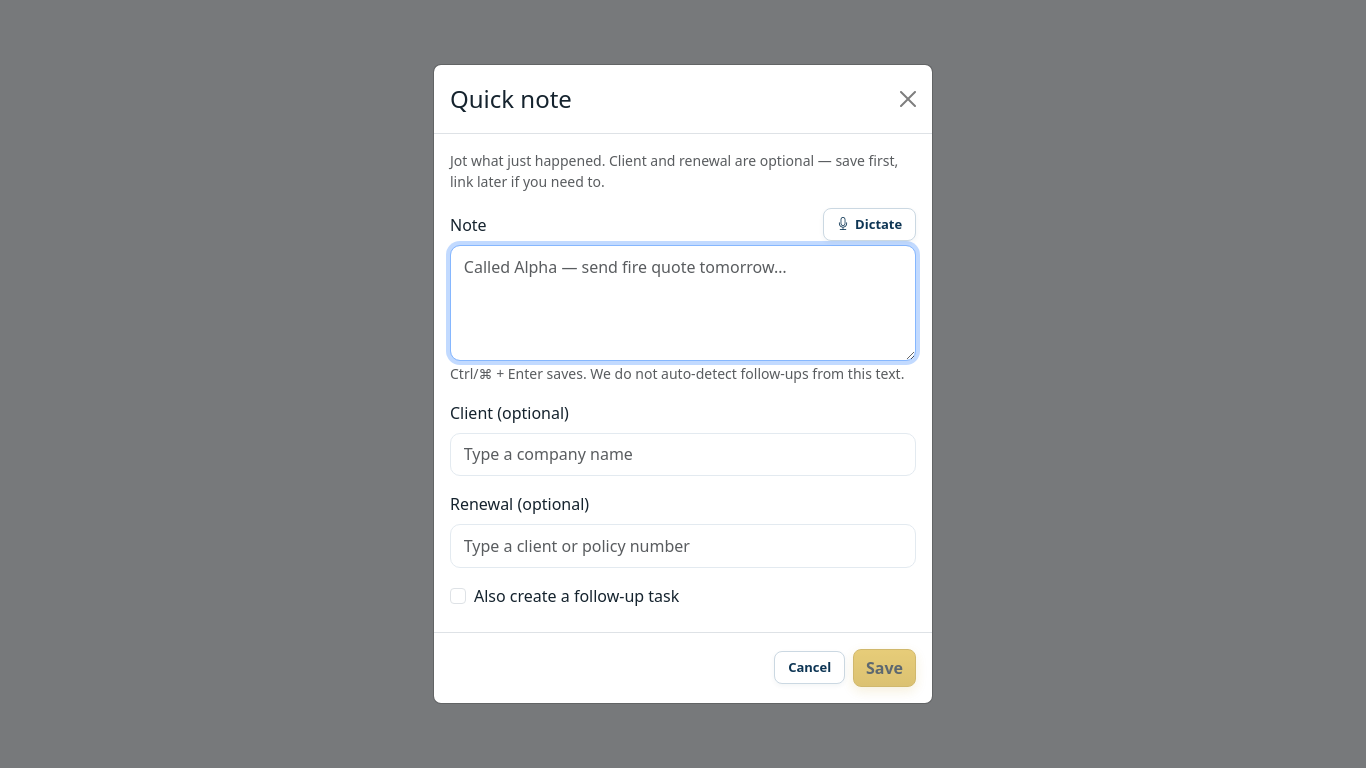
it: QuickNoteModal › shows an optional due date only when the follow-up task is ticked
Click the checkbox labelled "Also create a follow-up task": coordinates (458, 596) [450,588,466,604]
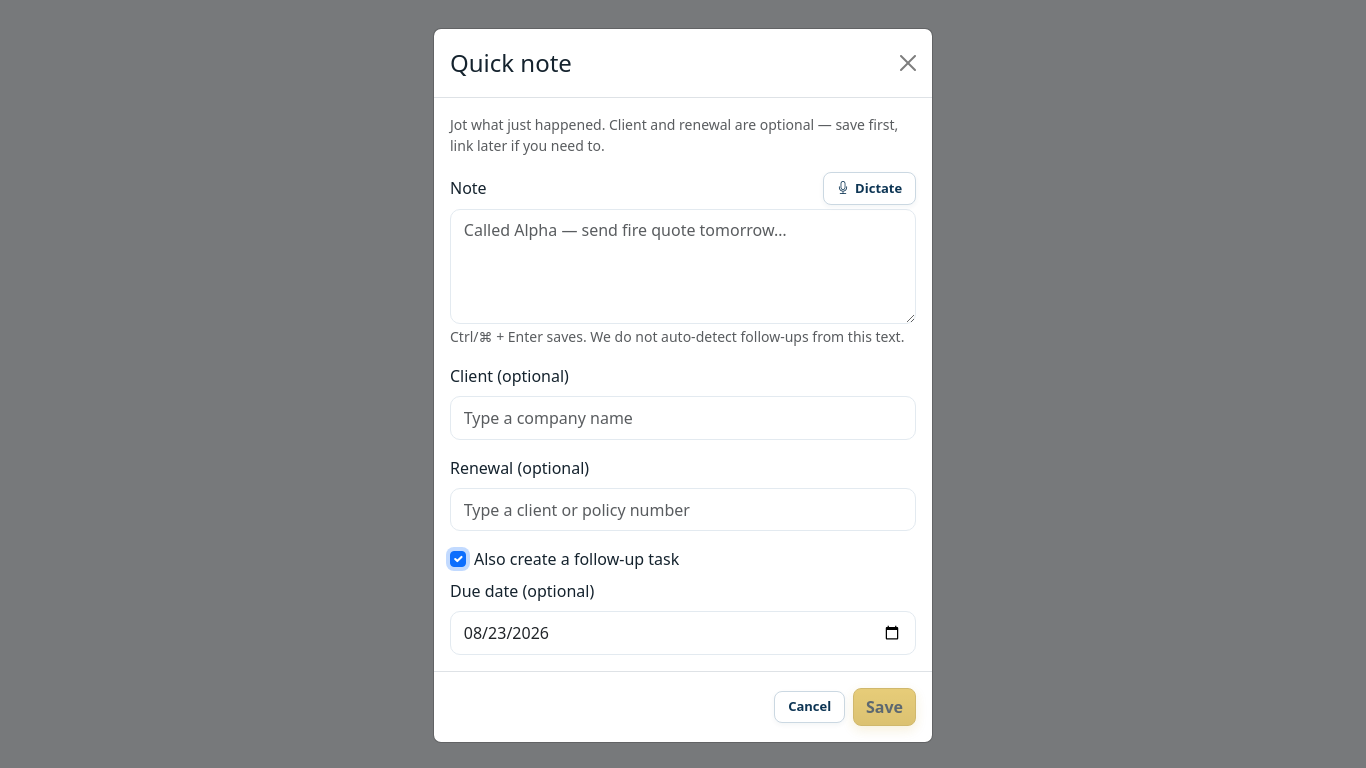
Expected: the date field labelled "Due date (optional)" is shown, [450,612,916,655]
